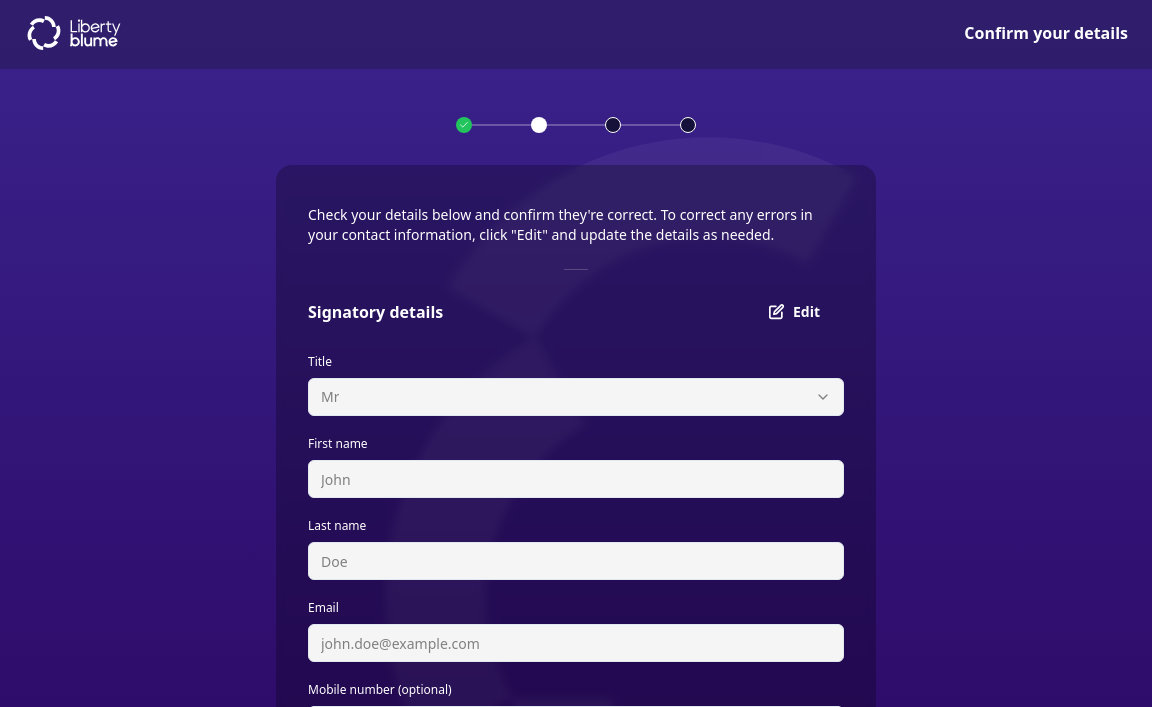
Scenario: ConfirmDetails › conditional field visibility › shows correspondence address section in edit mode even when all fields empty
Step 1. Click the button "Edit" → (794, 312), box [745, 294, 844, 330]
(page scrolled)
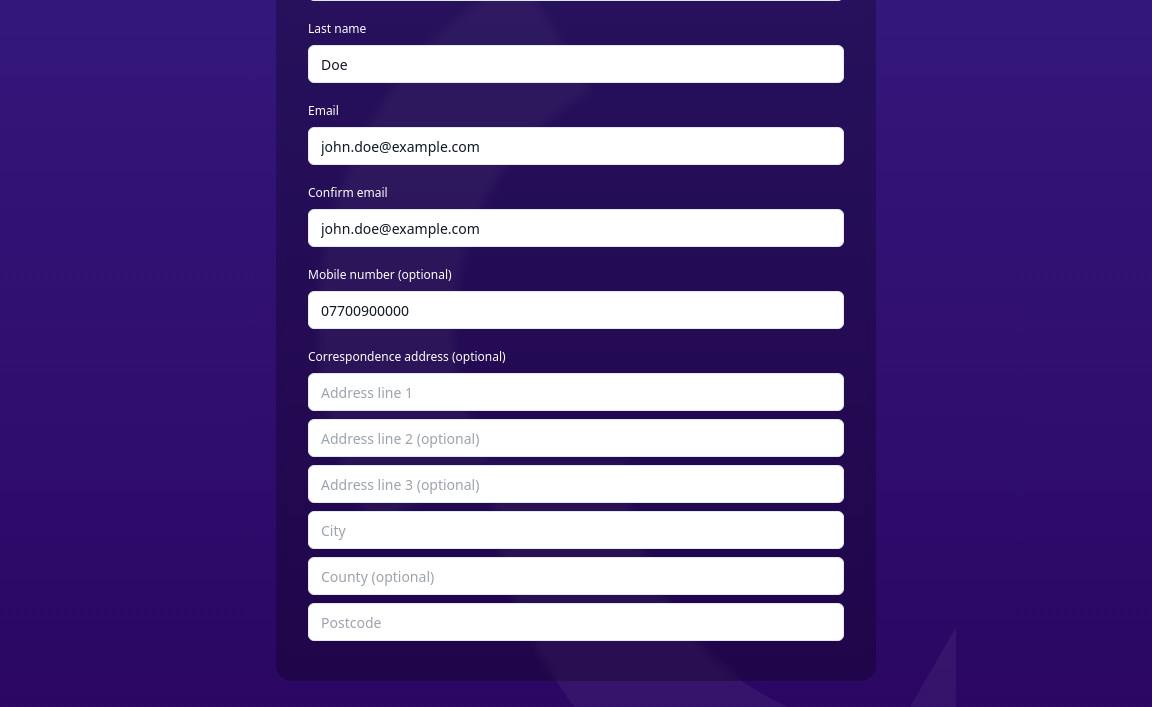
Now the text "Correspondence address (optional)" is shown, box [308, 348, 506, 365]
